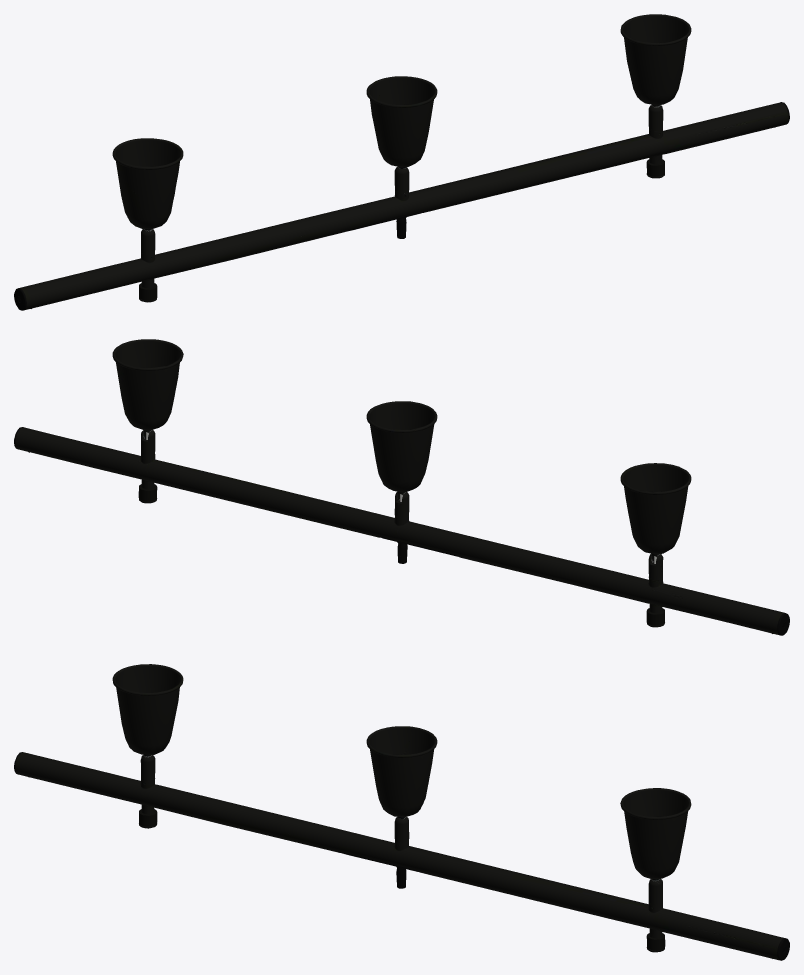
Rendered from skurup_lampa_sufitowa_3_reflektory_10395925.glb.
The picture shows the model from 3 angles, top to bottom: view 1: azimuth 30°, elevation 25°; view 2: azimuth 150°, elevation 25°; view 3: azimuth 330°, elevation 25°; orthographic projection.
Visible parts, largest first — view 1: skurup_lampa_sufitowa_3_reflektory_10395925; view 2: skurup_lampa_sufitowa_3_reflektory_10395925; view 3: skurup_lampa_sufitowa_3_reflektory_10395925.
Boxes of the visible parts, x1,y1,x2,y2 form: skurup_lampa_sufitowa_3_reflektory_10395925: (14,14,789,310); skurup_lampa_sufitowa_3_reflektory_10395925: (14,339,789,635); skurup_lampa_sufitowa_3_reflektory_10395925: (14,664,789,960).
Size of the model in its own units: 0.9642 by 0.1764 by 0.0774.
1 material, 1 textured.
